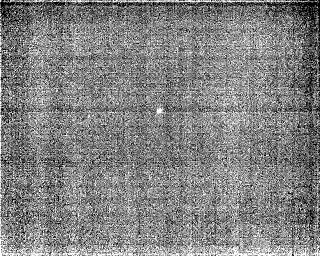BIRD: (153, 105, 167, 118)
